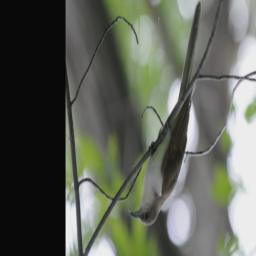Cuckoo: (129, 0, 204, 230)
